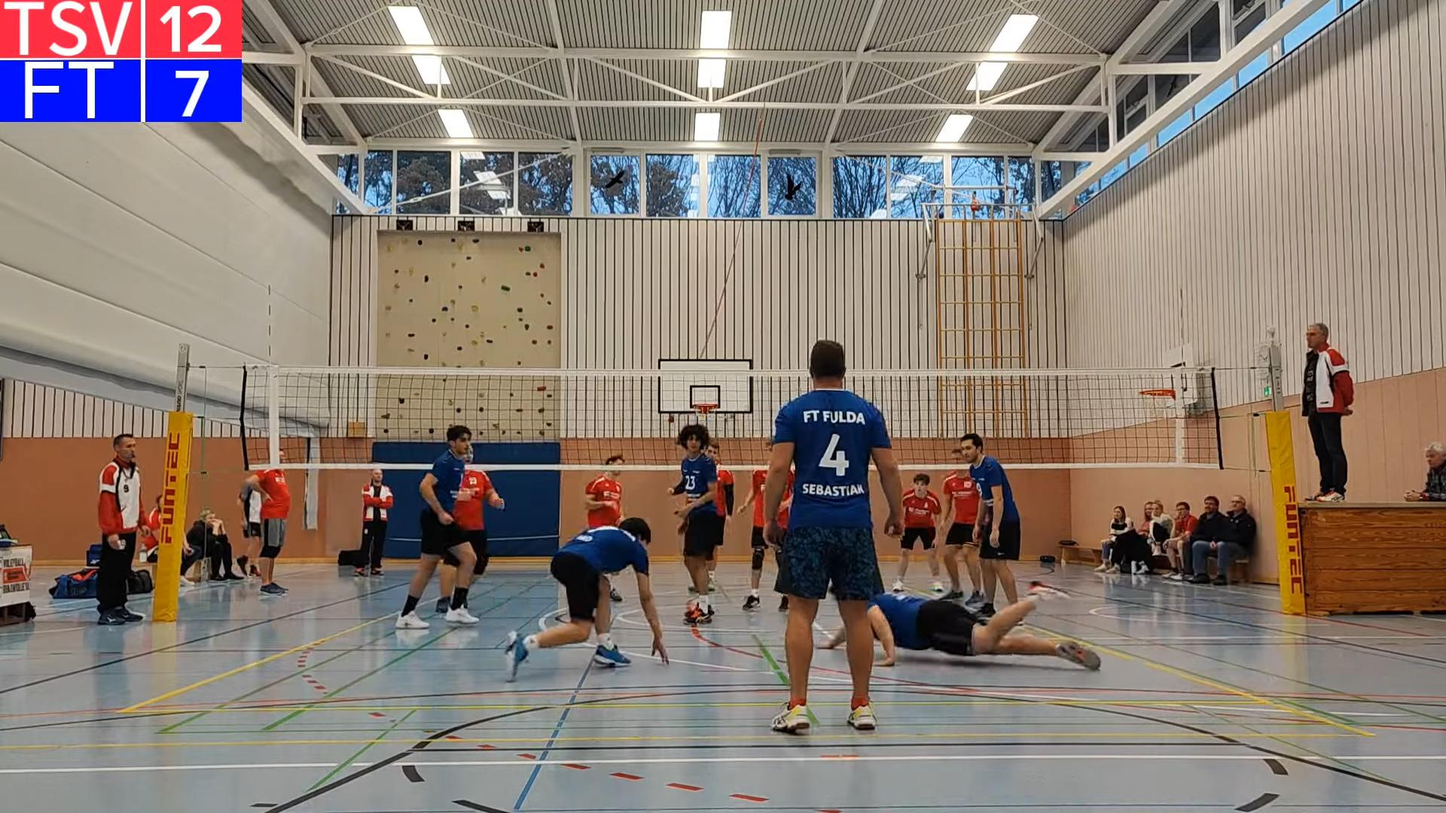difesa: (819, 576, 1110, 674)
